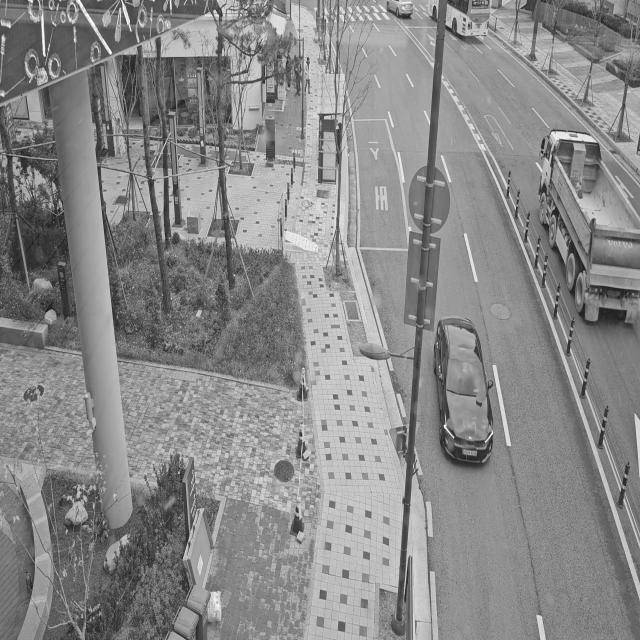Bus: (423, 0, 503, 39)
Car: (427, 296, 499, 480), (383, 0, 422, 19)
Truck: (531, 130, 640, 341)
